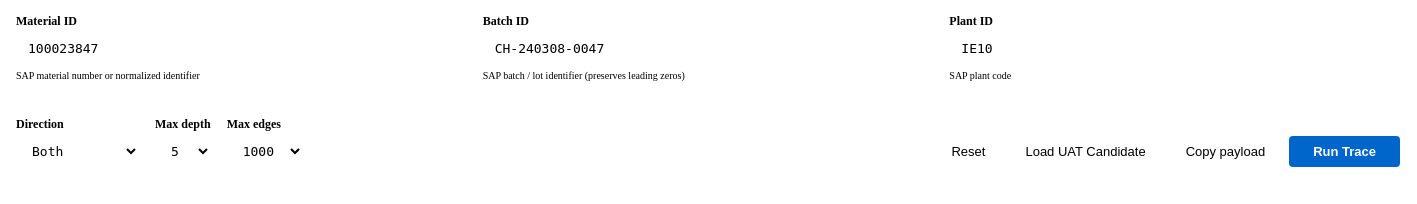
TraceQueryForm — material ID suggestion (§6) › shows suggestion when 18-char zero-padded material ID is entered
Replace the text in the field with test id "input-material-id" with "000000000100023847" at (241, 48), box x1=16 y1=33 x2=467 y2=64
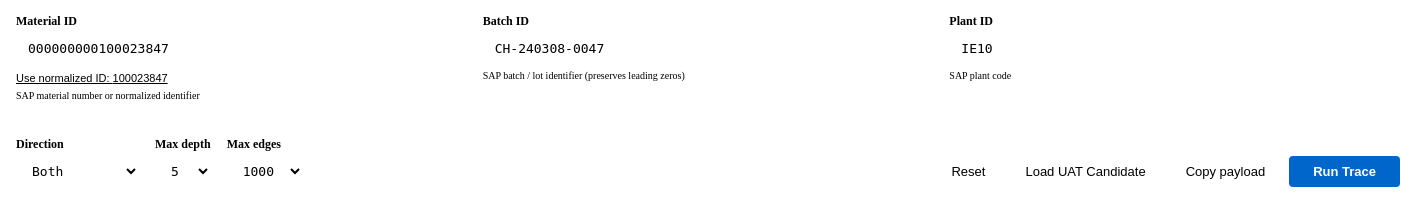
expect the button with test id "material-id-suggestion" shows "100023847": met, box x1=16 y1=72 x2=467 y2=84
